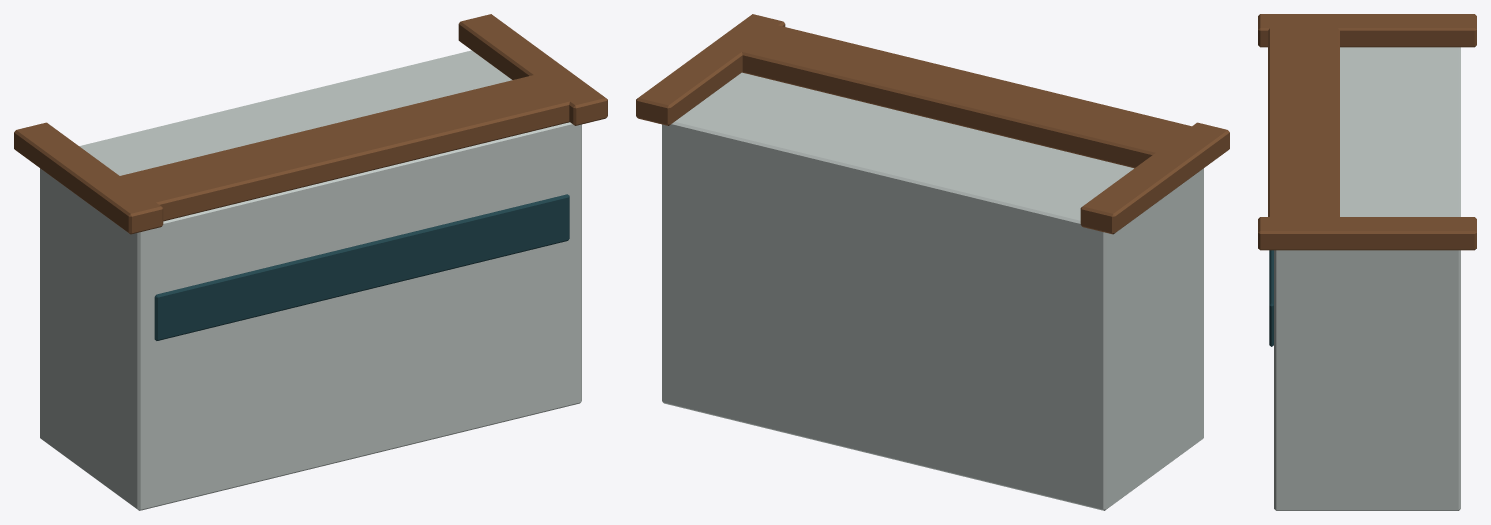
File: ReceptionCompact.fbx
3 views of the same model, side by side, from view 1: azimuth 30°, elevation 25°; view 2: azimuth 150°, elevation 25°; view 3: azimuth 270°, elevation 25° (orthographic). The views are drawn at different scales.
Parts seen in each view (by area): view 1: ReceptionCompact; view 2: ReceptionCompact; view 3: ReceptionCompact.
Part boxes in pixels (x1,y1,x2,y2): ReceptionCompact: (14, 14, 607, 510); ReceptionCompact: (636, 14, 1229, 510); ReceptionCompact: (1258, 14, 1476, 510).
Bounding box in the file's own units: 194 × 119 × 82.
Materials: 1 (1 with a texture image).
